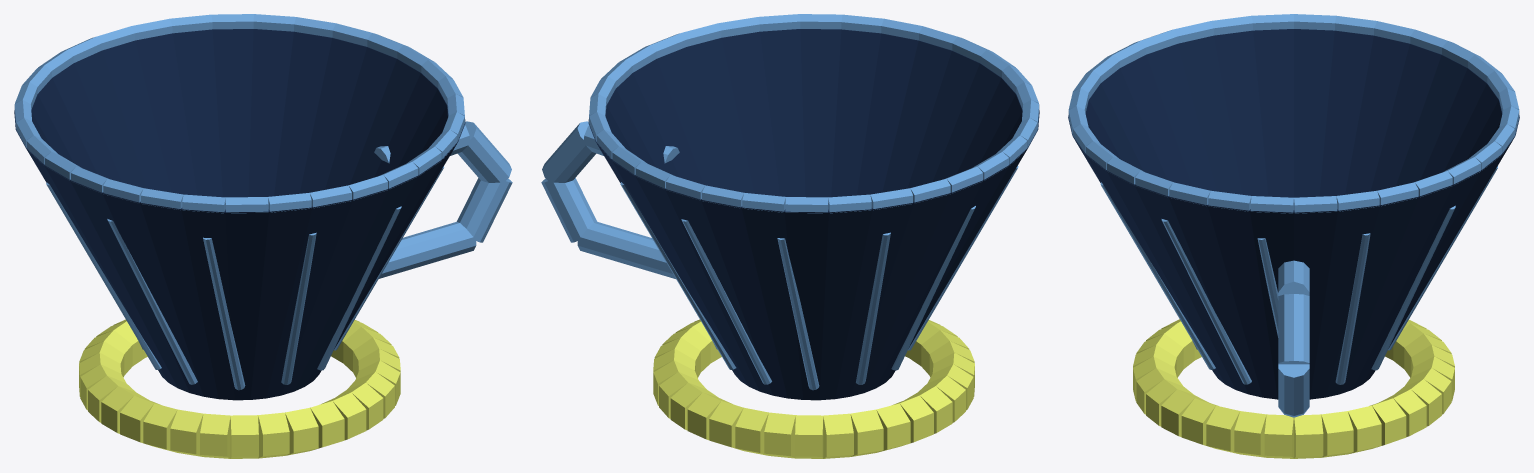
Rendered from dripper.glb.
3 views of the same model, side by side, from view 1: azimuth 30°, elevation 25°; view 2: azimuth 150°, elevation 25°; view 3: azimuth 270°, elevation 25° (orthographic).
Parts seen in each view (by area): view 1: conical wall, handle3, handle2, handle1, flute40, flute30, flute50, support foot9, support foot11, support foot12, support foot10, support foot8 (+40 smaller); view 2: conical wall, handle3, handle2, handle1, flute80, flute70, flute90, support foot22, support foot20, support foot19, support foot21, support foot23 (+40 smaller); view 3: conical wall, handle1, handle2, flute110, flute10, support foot1, support foot30, support foot0, support foot31, support foot2, support foot29, flute100 (+42 smaller).
Boxes of the visible parts, bbox=[...] form: conical wall: bbox=[14, 29, 465, 400]; handle3: bbox=[379, 221, 476, 278]; handle2: bbox=[457, 178, 512, 242]; handle1: bbox=[457, 121, 511, 183]; flute40: bbox=[203, 237, 245, 390]; flute30: bbox=[281, 232, 316, 384]; flute50: bbox=[107, 219, 197, 384]; support foot9: bbox=[258, 412, 289, 458]; support foot11: bbox=[200, 413, 230, 458]; support foot12: bbox=[170, 409, 203, 456]; support foot10: bbox=[230, 415, 258, 458]; support foot8: bbox=[285, 407, 318, 455]; conical wall: bbox=[588, 29, 1039, 400]; handle3: bbox=[577, 221, 675, 278]; handle2: bbox=[541, 178, 596, 242]; handle1: bbox=[542, 121, 596, 183]; flute80: bbox=[777, 238, 819, 390]; flute70: bbox=[856, 232, 890, 384]; flute90: bbox=[681, 219, 771, 384]; support foot22: bbox=[764, 412, 795, 458]; support foot20: bbox=[823, 413, 853, 458]; support foot19: bbox=[850, 409, 883, 456]; support foot21: bbox=[795, 415, 823, 458]; support foot23: bbox=[735, 407, 768, 455]; conical wall: bbox=[1068, 29, 1519, 399]; handle1: bbox=[1278, 294, 1309, 364]; handle2: bbox=[1278, 364, 1309, 415]; flute110: bbox=[1335, 233, 1370, 384]; flute10: bbox=[1161, 219, 1251, 384]; support foot1: bbox=[1234, 411, 1266, 457]; support foot30: bbox=[1321, 411, 1353, 457]; support foot0: bbox=[1264, 414, 1293, 458]; support foot31: bbox=[1294, 414, 1323, 458]; support foot2: bbox=[1206, 405, 1239, 454]; support foot29: bbox=[1348, 405, 1381, 454]; flute100: bbox=[1371, 205, 1455, 370].
Size of the model in its own units: 1.57 by 0.947 by 1.32.
